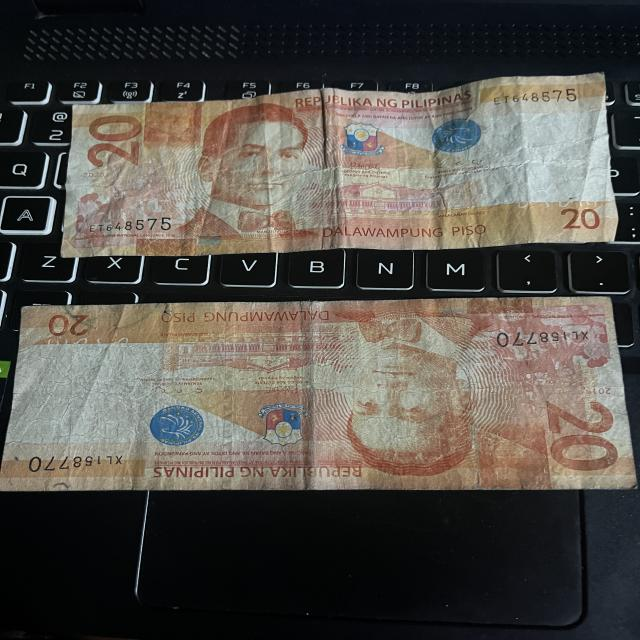concealed_value: (469, 426, 554, 490), (142, 98, 209, 149)
serial_number: (24, 449, 132, 477), (482, 84, 580, 113), (80, 214, 176, 238)
value: (532, 392, 626, 478), (78, 111, 152, 172)
